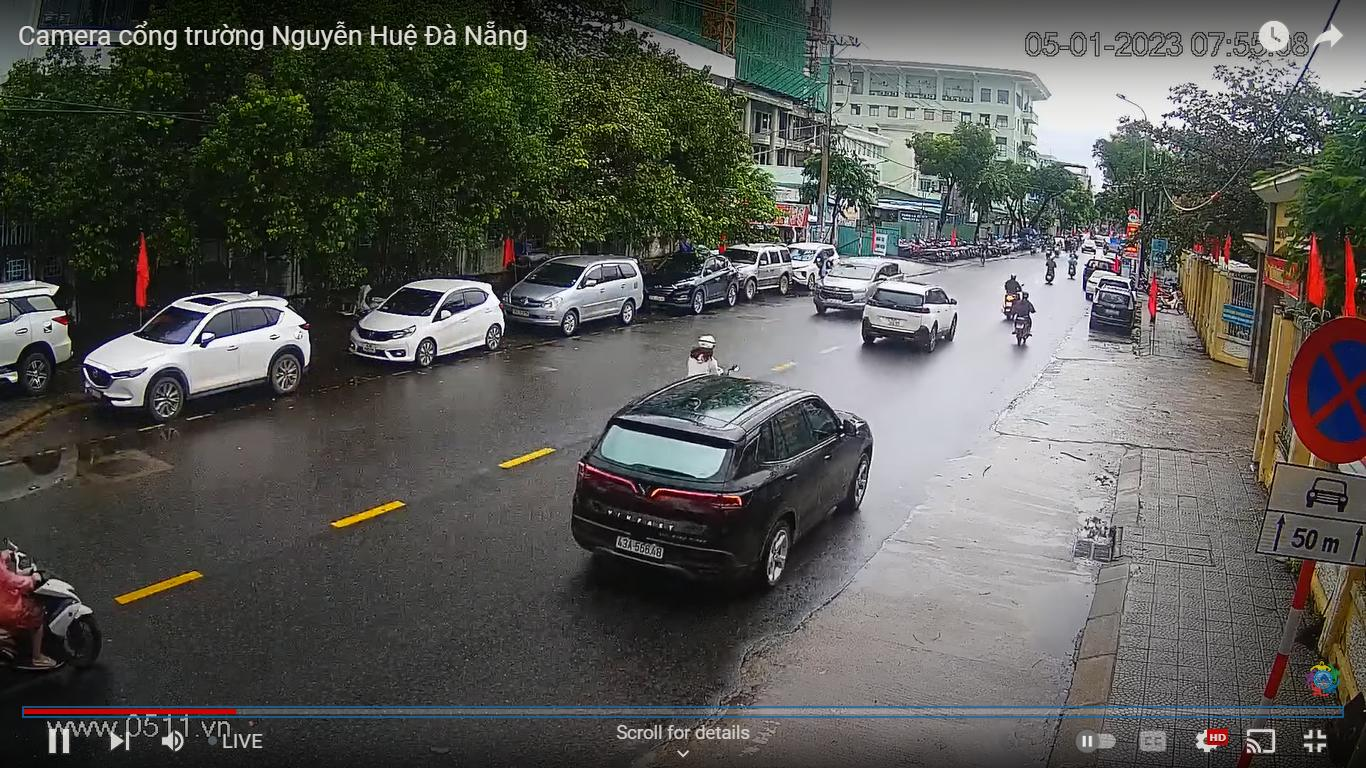car: (573, 370, 879, 595), (83, 288, 315, 420), (350, 279, 505, 370), (503, 252, 644, 337), (0, 279, 76, 396), (860, 281, 961, 351), (641, 248, 740, 315), (810, 257, 900, 316), (724, 243, 792, 299), (784, 240, 838, 293), (1087, 282, 1135, 336), (1085, 258, 1116, 291), (1086, 271, 1117, 296)
motorcycle: (0, 520, 106, 680), (1010, 290, 1037, 346), (1001, 272, 1023, 324), (1153, 289, 1186, 316), (1044, 255, 1056, 284), (1068, 252, 1078, 279)
